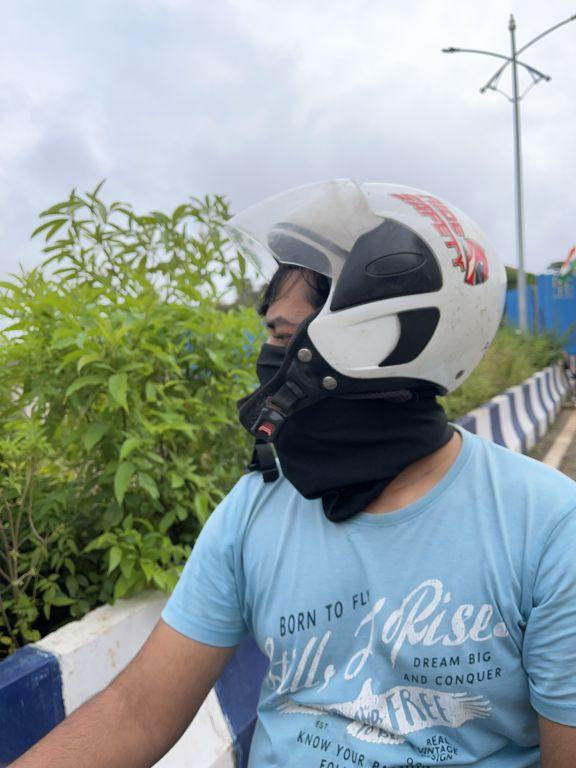helmet: (220, 167, 513, 487)
